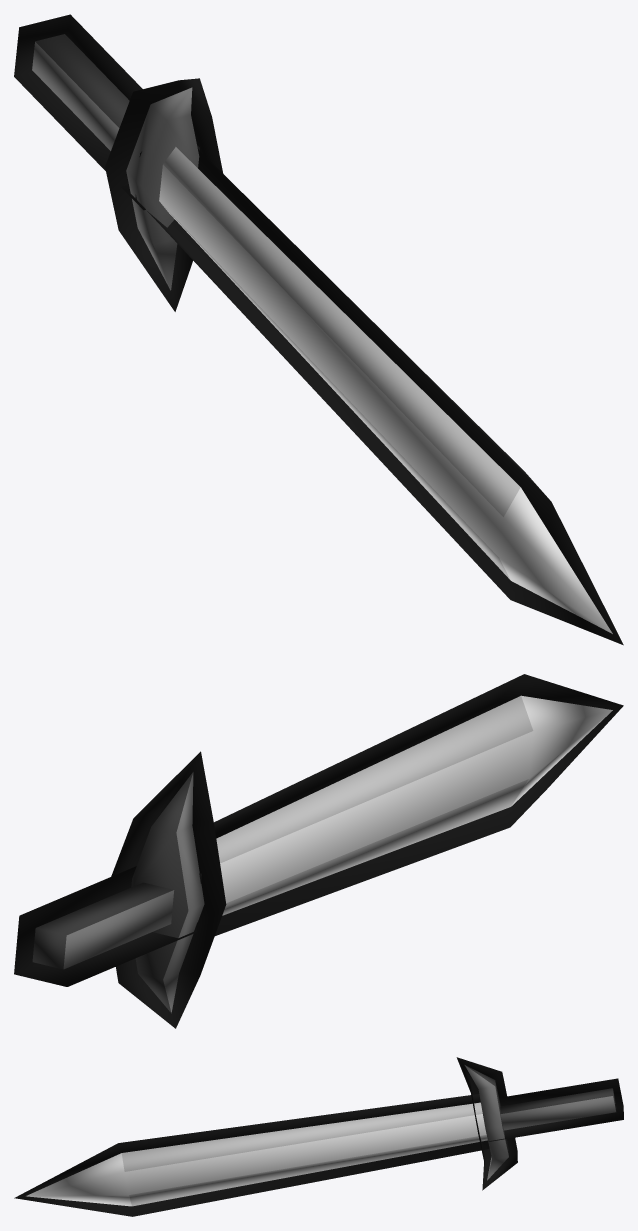
File: SwordL.FBX
The picture shows the model from 3 angles, top to bottom: view 1: azimuth 30°, elevation 25°; view 2: azimuth 150°, elevation 25°; view 3: azimuth 270°, elevation 25°; orthographic projection. The views are drawn at different scales.
Visible parts, largest first — view 1: SwordL; view 2: SwordL; view 3: SwordL.
Boxes of the visible parts, left/top/right/bottom form: SwordL: left=14, top=14, right=623, bottom=645; SwordL: left=14, top=674, right=623, bottom=1028; SwordL: left=14, top=1057, right=623, bottom=1216.
Size of the model in its own units: 14.23 by 45.48 by 159.
Materials: 1 (1 with a texture image).
